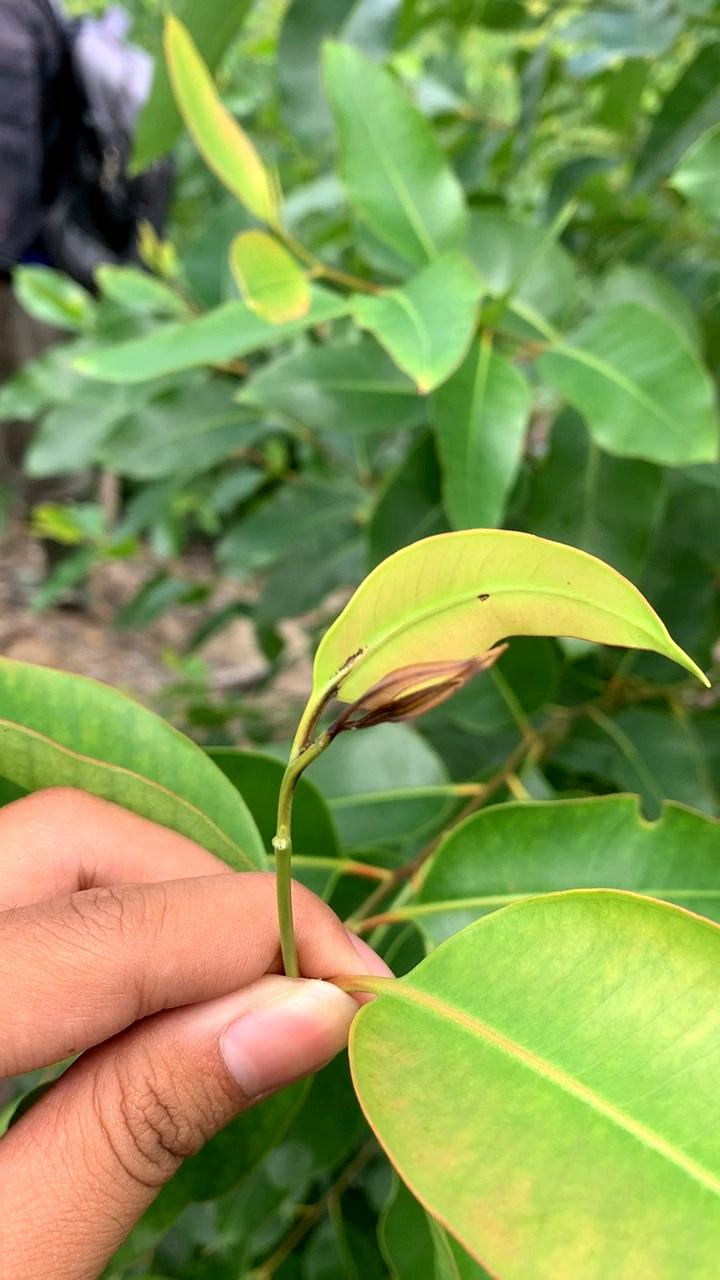Helopeltis-Withered Sprout: (318, 638, 507, 739)
